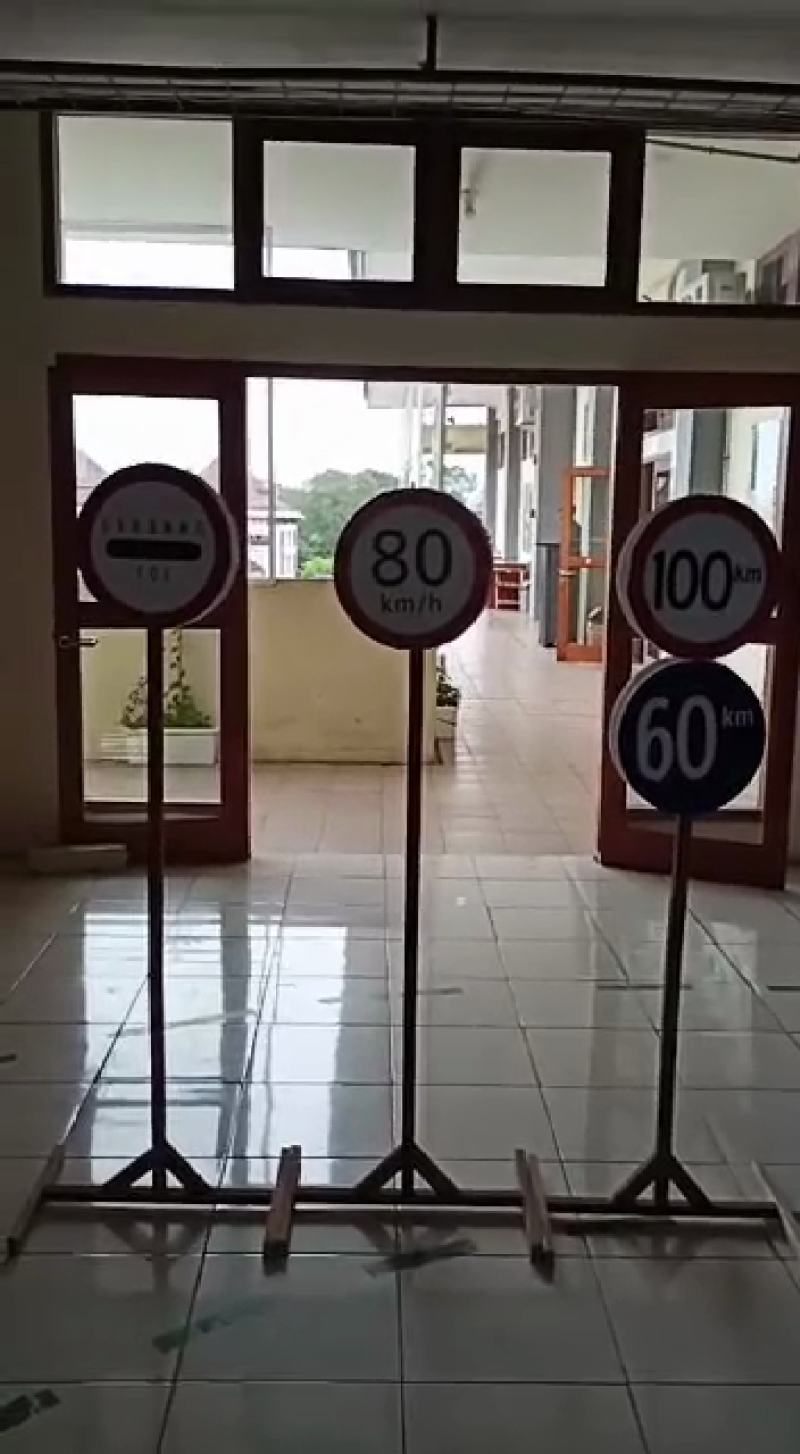batas maksimal 100kmperjam minimal 60kmperjam: (616, 492, 779, 820)
batas maksimal 80kmperjam: (326, 474, 507, 664)
gerbang tol: (76, 464, 246, 635)
